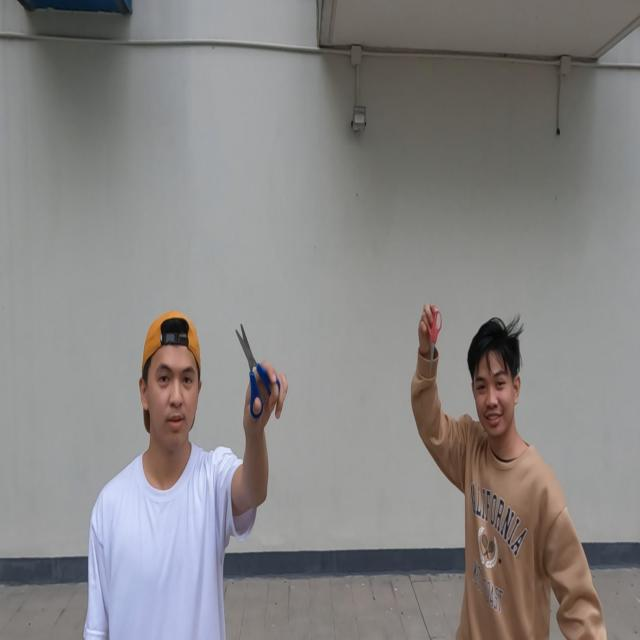scissor: (236, 324, 281, 417), (427, 309, 443, 377)
